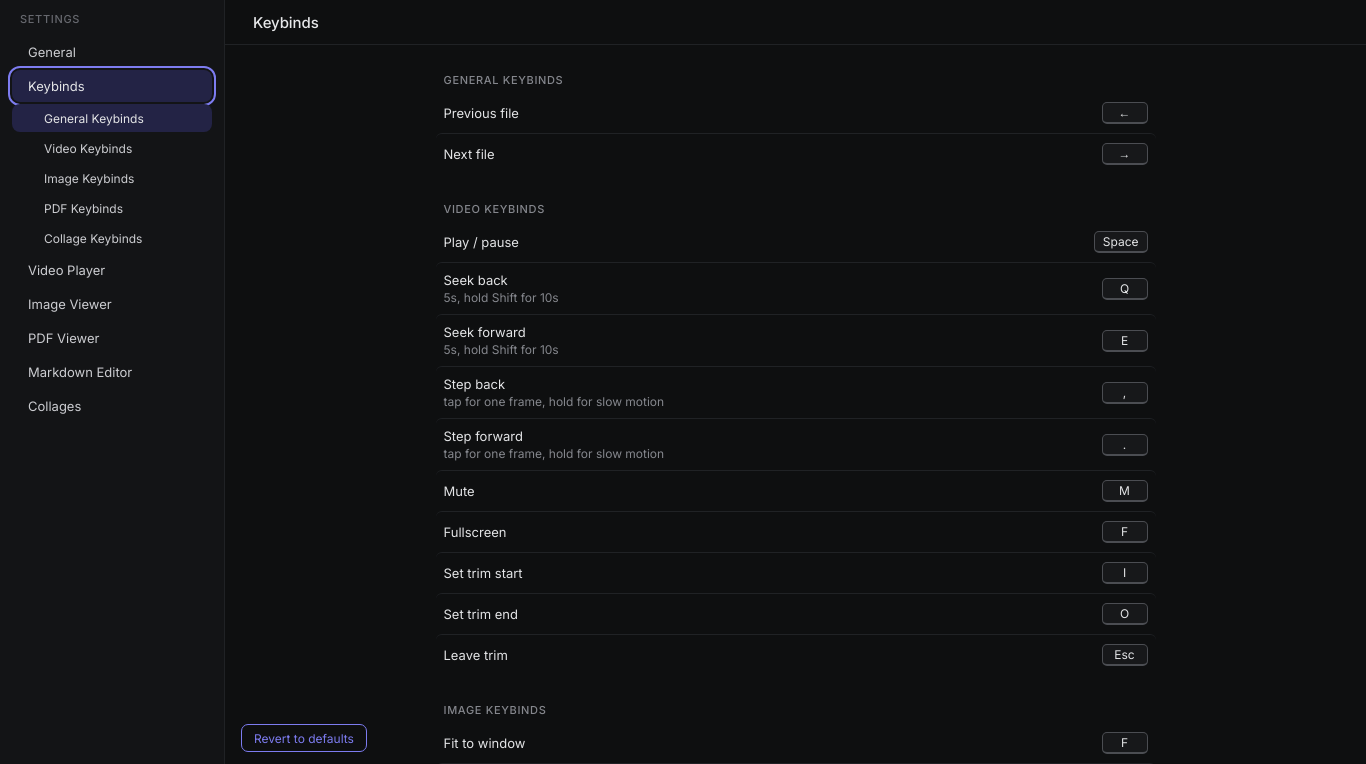
it: KeybindsSettings › the unsaved prompt ends listening, so its Enter is not bound
This screenshot has width=1366, height=764.
Click the button "Mute M" at (459, 491), box 436,470 -> 1156,511
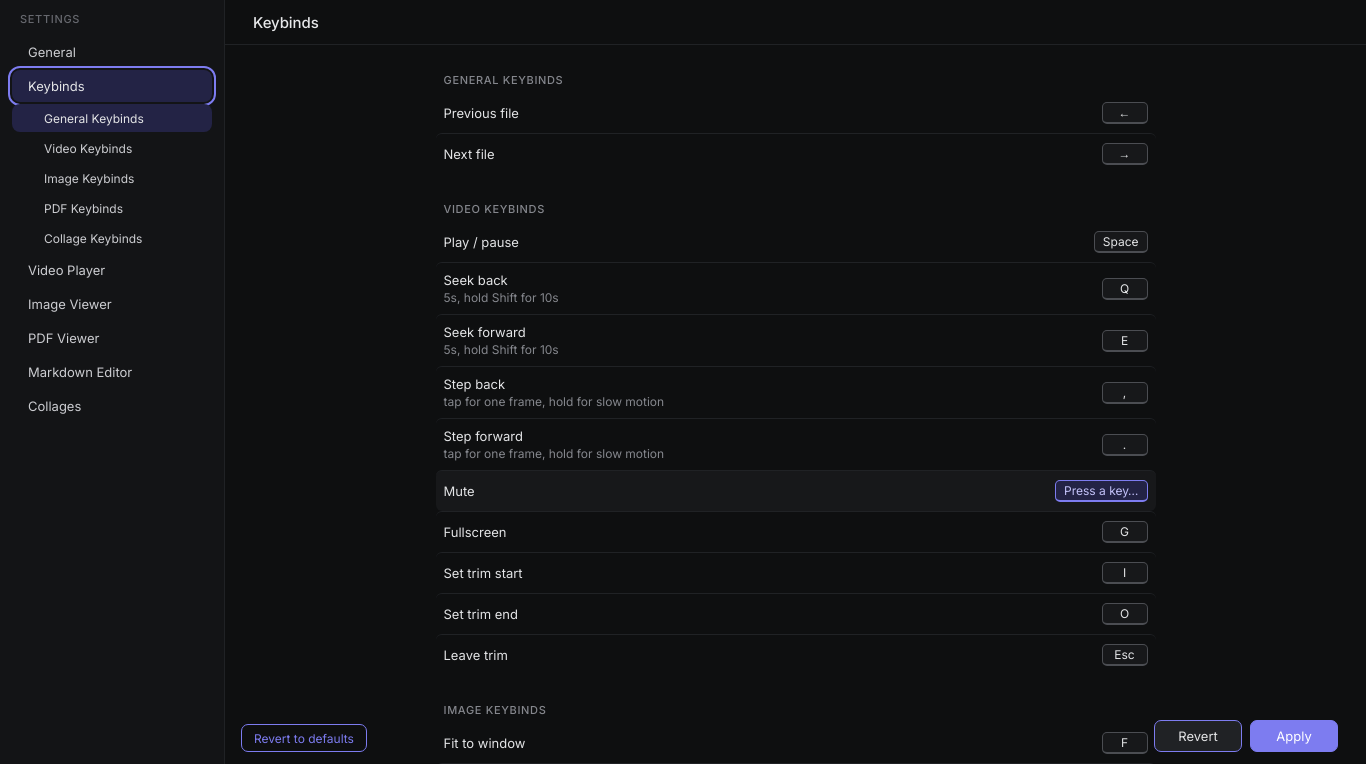
Click the button with class "nav-item" showing "General" at (112, 52), box 12,36 -> 212,68
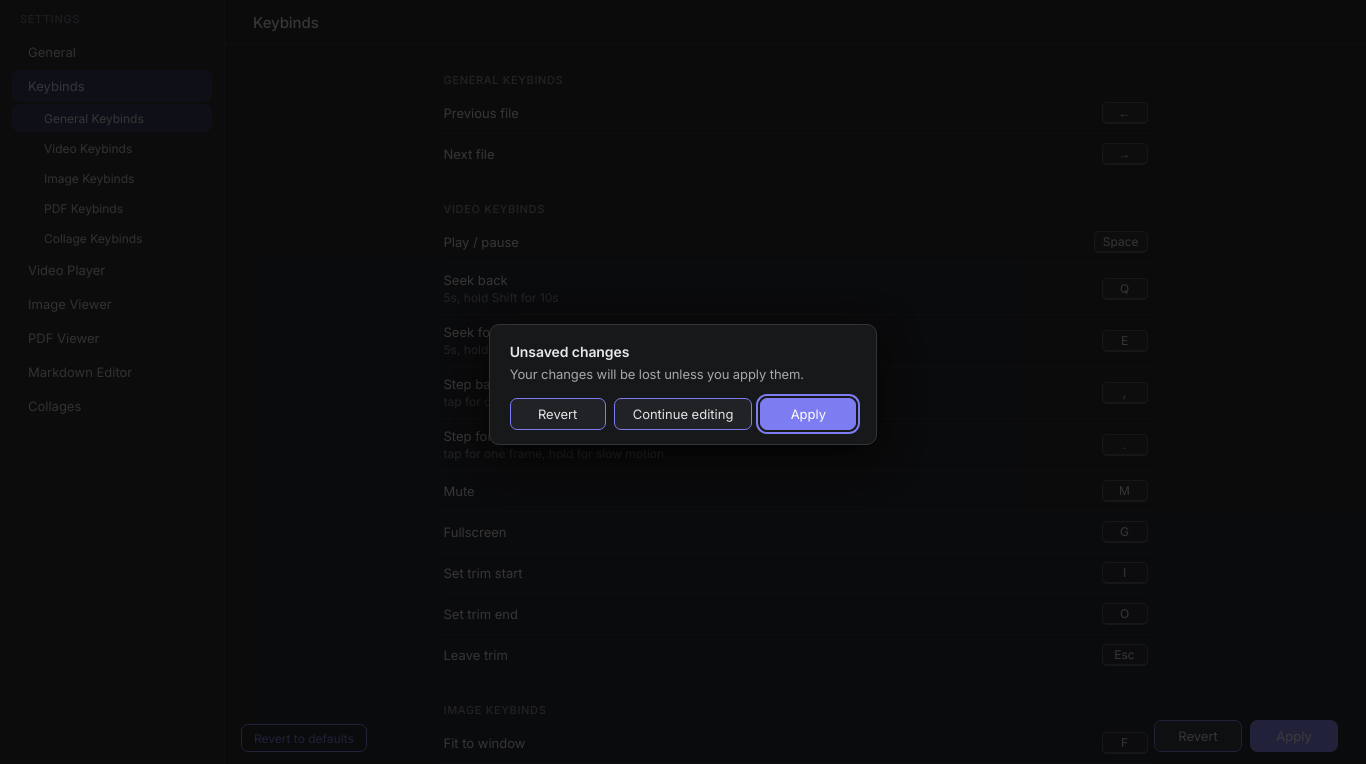
expect the dialog with class "dialog" is shown: met, box 489,324 -> 877,444
